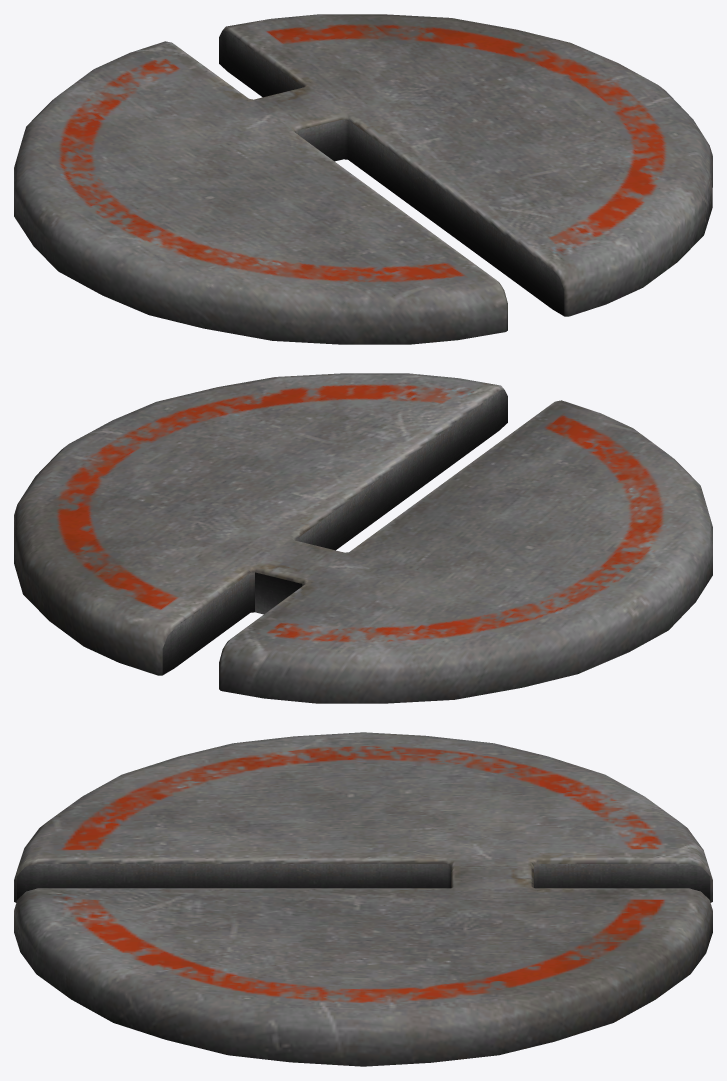
The model's file is reactor_shutdown_lock_coil_nokey.dae.
3 renders of one model, top to bottom at view 1: azimuth 30°, elevation 25°; view 2: azimuth 150°, elevation 25°; view 3: azimuth 270°, elevation 25°, orthographic.
Parts seen in each view (by area): view 1: pCylinder3; view 2: pCylinder3; view 3: pCylinder3.
Part boxes in pixels (x1=…): pCylinder3: x1=14, y1=14, x2=712, y2=344; pCylinder3: x1=14, y1=373, x2=712, y2=703; pCylinder3: x1=14, y1=732, x2=712, y2=1066.
Bounding box in the file's own units: 0.1431 × 0.00961 × 0.1413.
